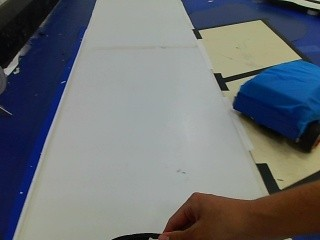car: (234, 59, 318, 154)
